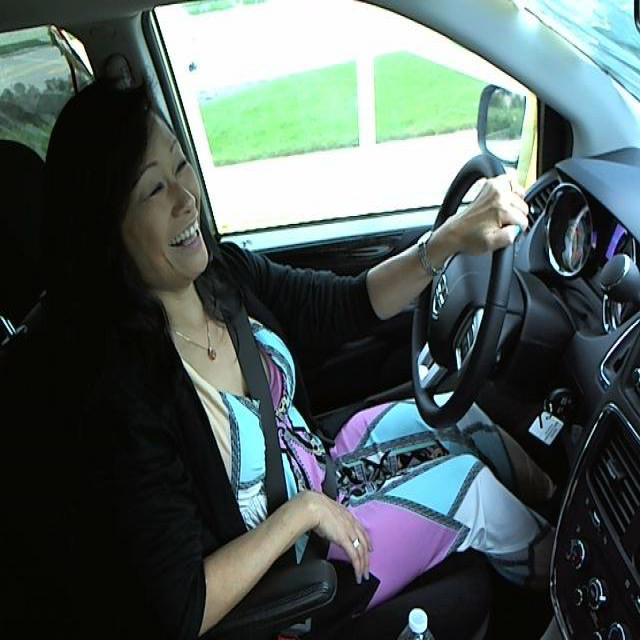seatbelt: (233, 301, 346, 564)
